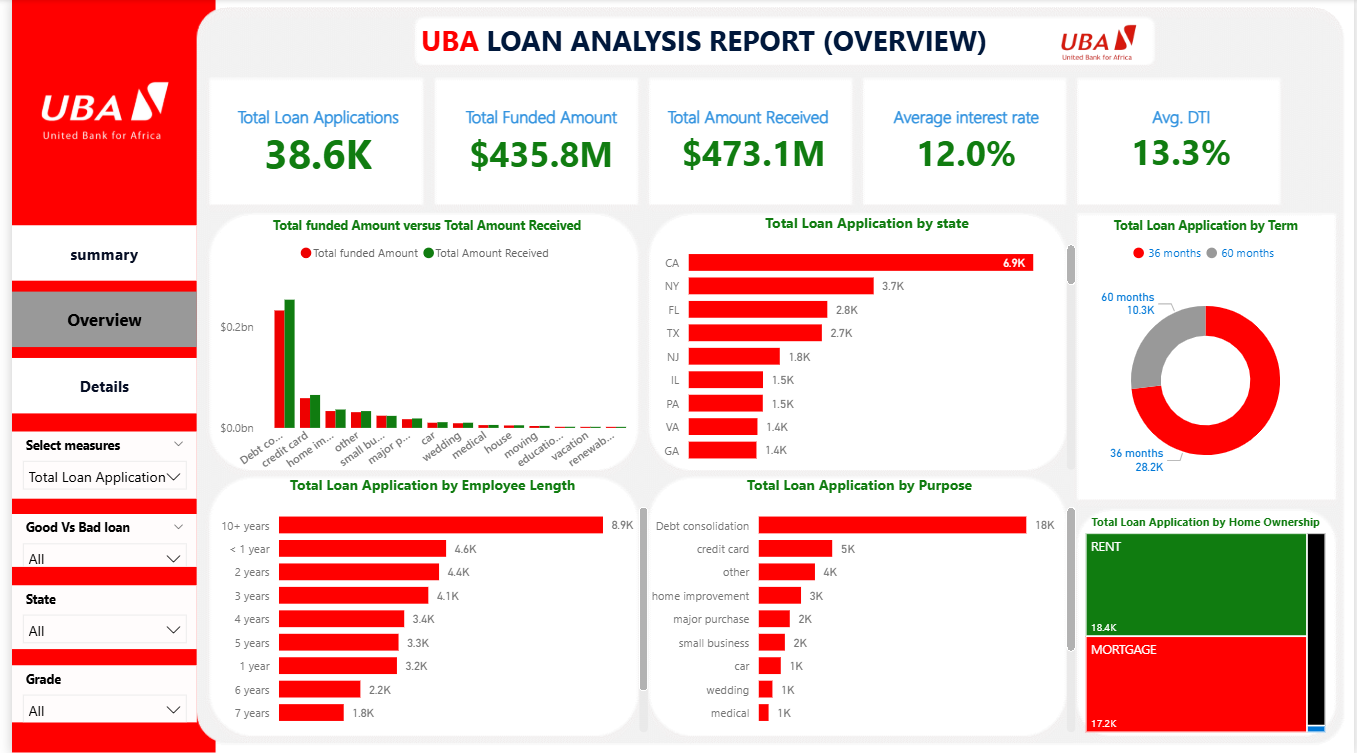

What the dashboard file says about the page in this screenshot:
{"tool":"powerbi","page":{"name":"Overview","canvas":[1280,720],"ordinal":1},"visuals":[{"type":"image","box":[0,0,175.7,215.2],"z":0},{"type":"cardVisual","fields":{"Data":["financial_loan.Total Loan Application"]},"box":[190.5,103.6,202.4,76.2],"z":1000},{"type":"textbox","box":[190.5,95.2,202.4,76.2],"z":2000},{"type":"cardVisual","fields":{"Data":["financial_loan.Total funded Amount"]},"box":[408.3,104.8,191.7,75],"z":3000},{"type":"textbox","box":[408.3,95.2,191.7,46.4],"z":4000},{"type":"textbox","box":[600,95.2,202.4,101.2],"z":5000},{"type":"cardVisual","fields":{"Data":["Date table.Total Amount Received"]},"box":[610.7,104.8,191.7,73.8],"z":6000},{"type":"cardVisual","fields":{"Data":["financial_loan.AVerage interest rate"]},"box":[813.1,98.8,191.7,84.5],"z":7000},{"type":"textbox","box":[814.3,95.2,189.3,40.5],"z":8000},{"type":"cardVisual","fields":{"Data":["financial_loan.Avg DTI"]},"box":[1017.9,101.2,191.7,77.4],"z":9000},{"type":"textbox","box":[1017.9,95.2,191.7,38.1],"z":10000},{"type":"textbox","box":[384.5,15.5,702.4,45.2],"z":11000},{"type":"image","box":[814.3,0,441.7,86.9],"z":12000},{"type":"slicer","fields":{"Values":["financial_loan.Good Vs Bad loan"]},"box":[0,490.5,176.2,50],"z":13000},{"type":"slicer","fields":{"Values":["financial_loan.grade"]},"box":[0,634.5,176.2,54.8],"z":14000},{"type":"slicer","fields":{"Values":["financial_loan.address_state"]},"box":[0,558.3,176.2,60.7],"z":15000},{"type":"slicer","fields":{"Values":["Select measures.Select measures"]},"box":[0,411.9,176.2,64.3],"z":16000},{"type":"donutChart","fields":{"Y":["financial_loan.Total Loan Application"],"Category":["financial_loan.term"]},"box":[1017.9,207.1,238.1,269],"z":17000},{"type":"barChart","fields":{"Y":["financial_loan.Total Loan Application"],"Category":["financial_loan.emp_length"]},"box":[190.5,453.6,420.2,250],"z":18000},{"type":"barChart","fields":{"Y":["financial_loan.Total Loan Application"],"Category":["financial_loan.purpose"]},"box":[596.4,453.6,421.4,250],"z":19000},{"type":"treemap","fields":{"Values":["financial_loan.Total Loan Application"],"Group":["financial_loan.home_ownership"]},"box":[1017.9,490.5,238.1,213.1],"z":20000},{"type":"pageNavigator","box":[0,215.5,176.2,179.8],"z":21000},{"type":"barChart","title":"Total Loan Application by state","fields":{"Y":["financial_loan.Total Loan Application"],"Category":["financial_loan.address_state"]},"box":[610.7,203.6,407.1,250],"z":22000},{"type":"clusteredColumnChart","title":"Total funded Amount versus Total Amount Received","fields":{"Category":["financial_loan.purpose"],"Y":["financial_loan.Total funded Amount","Date table.Total Amount Received"]},"box":[190.5,207.1,409.5,250],"z":23000}]}

Visuals, with their boxes in screenshot pixels (x1, y1, x2, y2), scaled from the page's 1280x720 canvas onto the 1357x753 screenshot:
image: 0/0/186/225
cardVisual - financial_loan.Total Loan Application: 202/108/417/188
textbox: 202/100/417/179
cardVisual - financial_loan.Total funded Amount: 433/110/636/188
textbox: 433/100/636/148
textbox: 636/100/851/205
cardVisual - Date table.Total Amount Received: 647/110/851/187
cardVisual - financial_loan.AVerage interest rate: 862/103/1065/192
textbox: 863/100/1064/142
cardVisual - financial_loan.Avg DTI: 1079/106/1282/187
textbox: 1079/100/1282/139
textbox: 408/16/1152/63
image: 863/0/1332/91
slicer - financial_loan.Good Vs Bad loan: 0/513/187/565
slicer - financial_loan.grade: 0/664/187/721
slicer - financial_loan.address_state: 0/584/187/647
slicer - Select measures.Select measures: 0/431/187/498
donutChart - financial_loan.Total Loan Application x financial_loan.term: 1079/217/1332/498
barChart - financial_loan.Total Loan Application x financial_loan.emp_length: 202/474/647/736
barChart - financial_loan.Total Loan Application x financial_loan.purpose: 632/474/1079/736
treemap - financial_loan.Total Loan Application x financial_loan.home_ownership: 1079/513/1332/736
pageNavigator: 0/225/187/413
"Total Loan Application by state" barChart: 647/213/1079/474
"Total funded Amount versus Total Amount Received" clusteredColumnChart: 202/217/636/478
